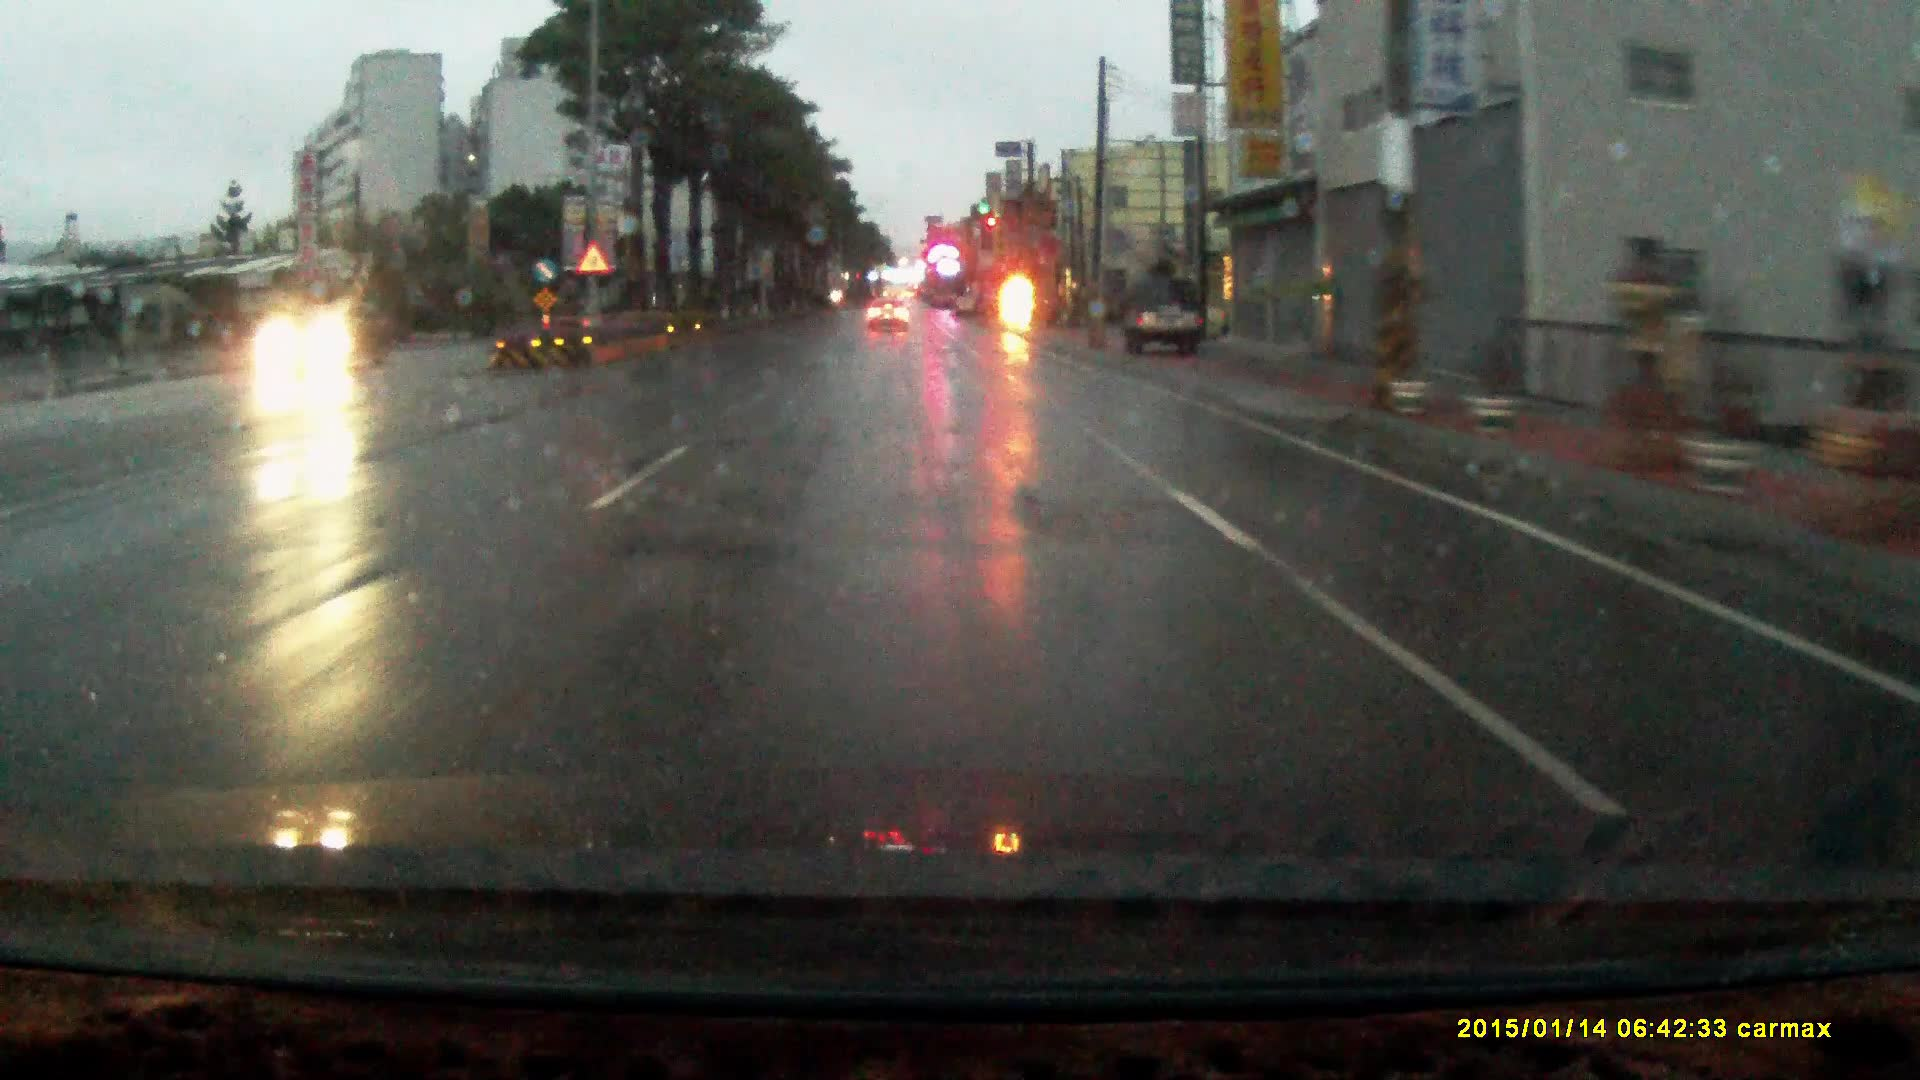vehicle: (248, 301, 394, 377), (1122, 278, 1209, 360), (866, 298, 911, 334)
